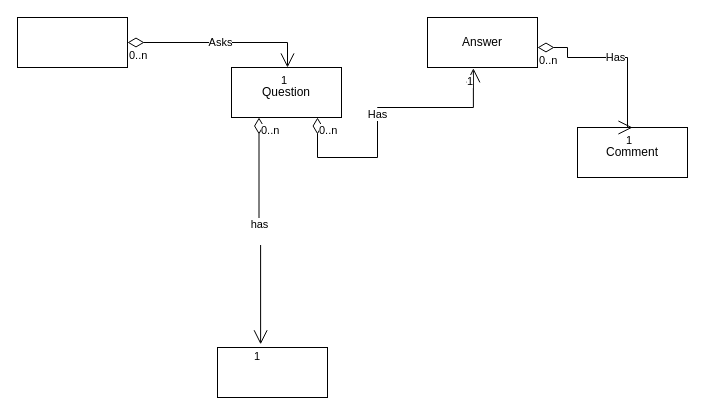
Image size: 705x415. Some labels were removed from this diagram. The shapes that lost their labels are listed below. From the top down, each one's centre as x and y in pixels, then its label:
At (x=72, y=42): "User".
At (x=272, y=372): "Tag".
